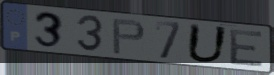3: (32, 10, 67, 51), (74, 14, 105, 55)
7: (154, 19, 182, 62)
E: (228, 28, 266, 68)
P: (111, 18, 148, 56)
U: (185, 22, 231, 65)
